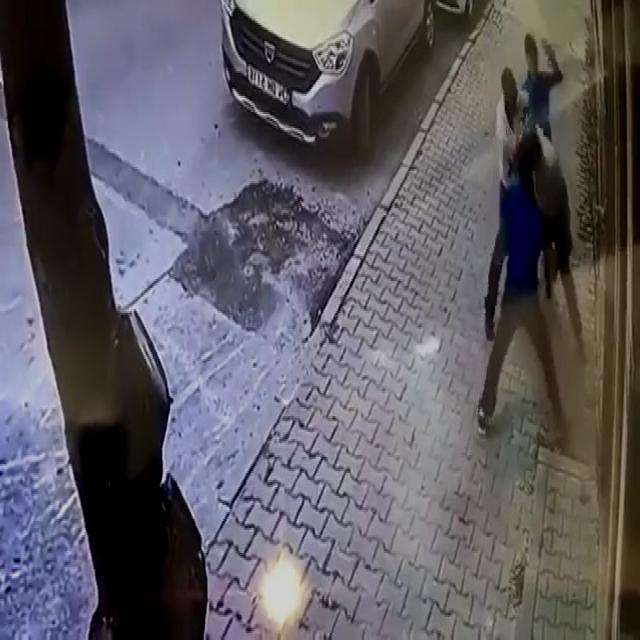fight: (482, 129, 574, 447), (494, 30, 564, 182)
